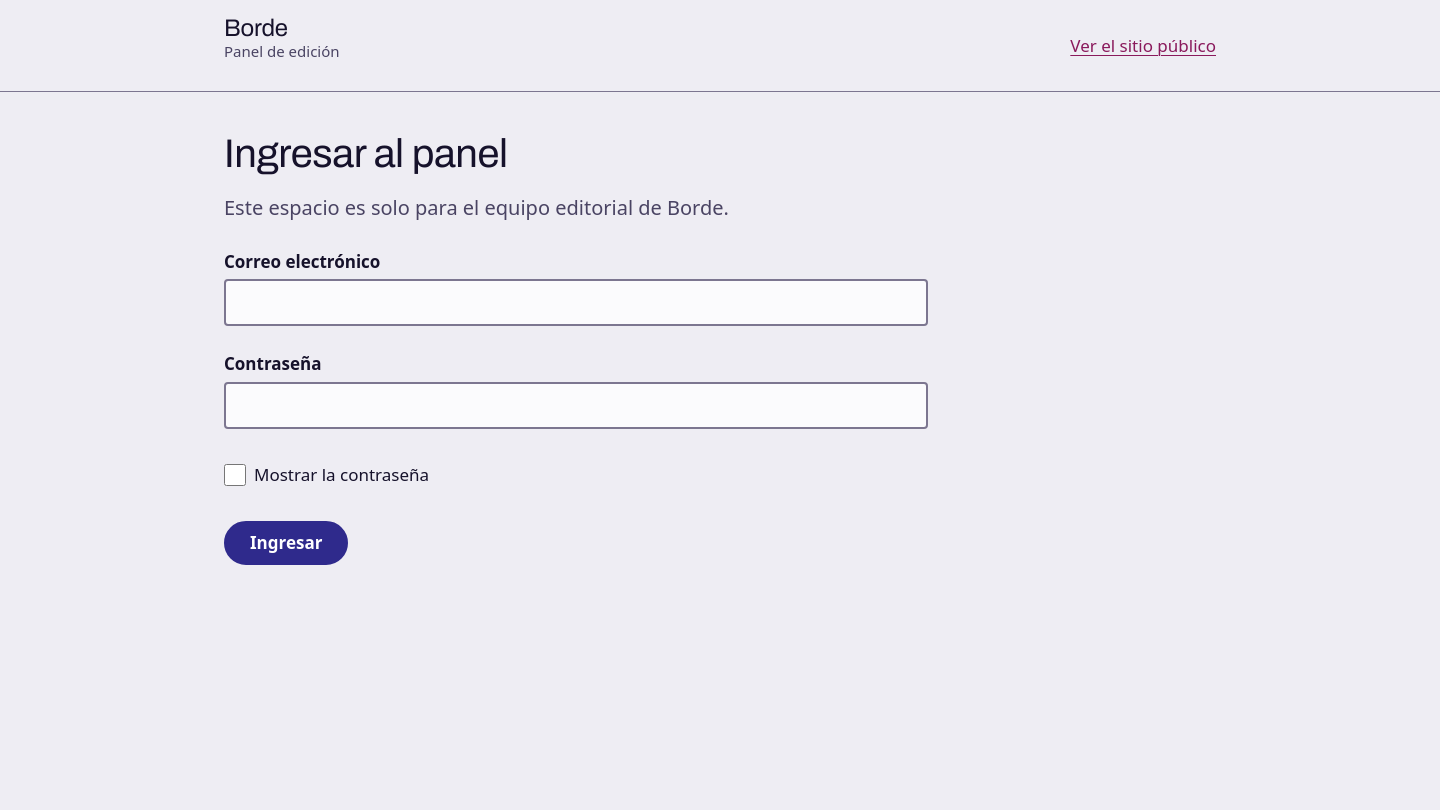
Acceso al panel › login correcto vuelve a la página que se había pedido
Expected: the heading "Ingresar al panel" is shown, top-left (224, 132), bottom-right (508, 175)
Type "editora@test.local" into the field labelled "Correo electrónico".
click(576, 303); type("editora@test.local")  # box top-left (224, 279), bottom-right (928, 326)
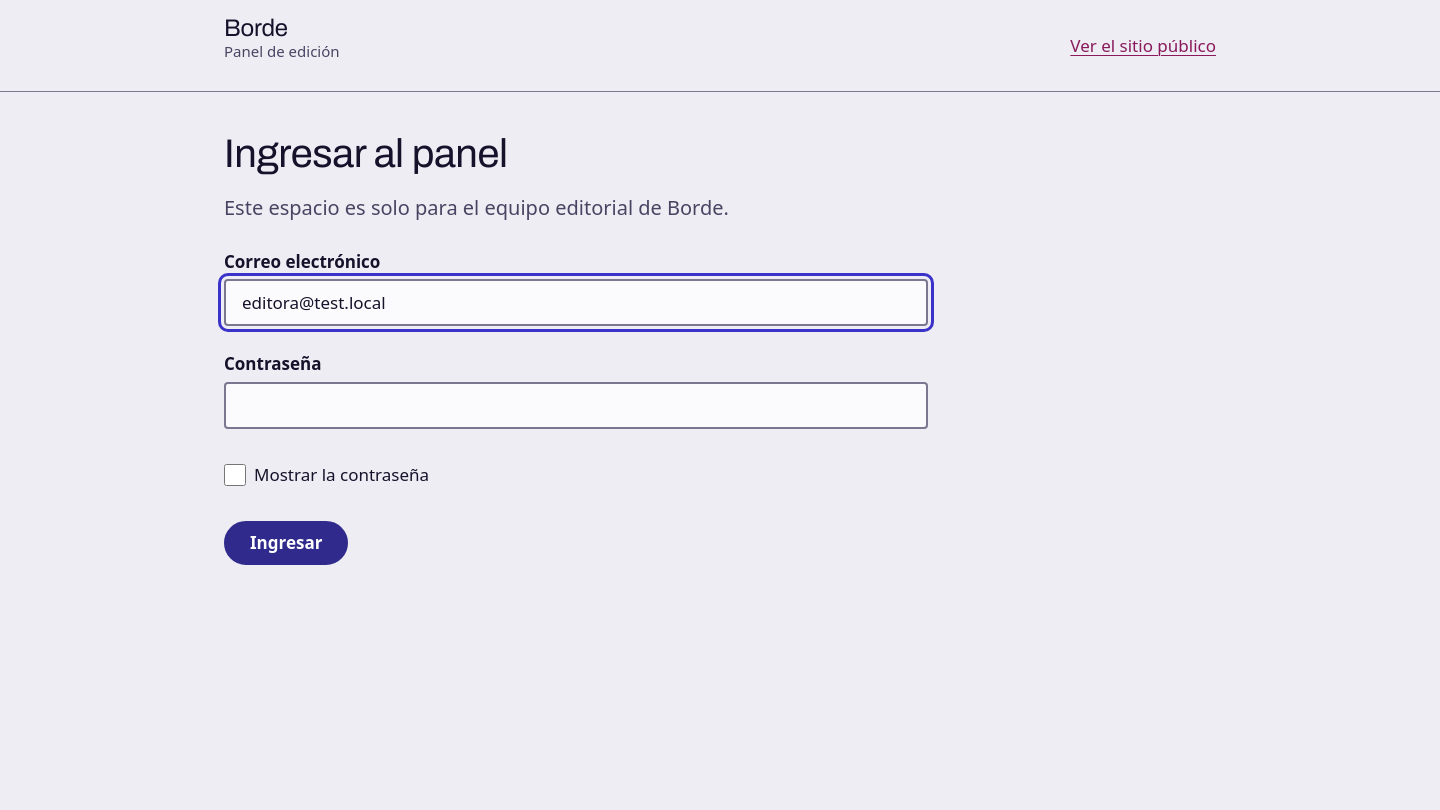
Type "buena" into the password field labelled "Contraseña".
click(576, 405); type("buena")  # box top-left (224, 382), bottom-right (928, 429)
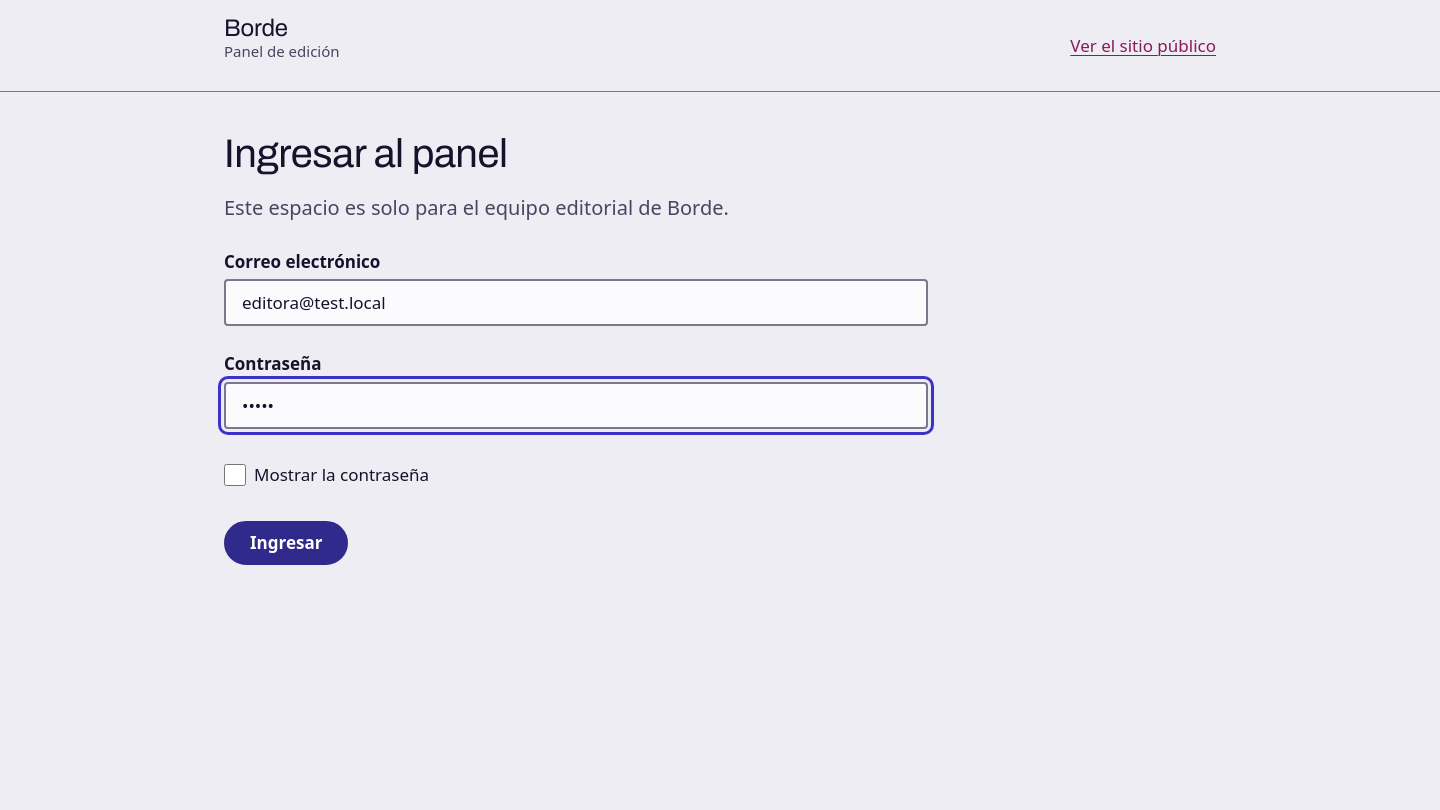
Click the button "Ingresar".
click(286, 543)  # box top-left (224, 521), bottom-right (348, 565)
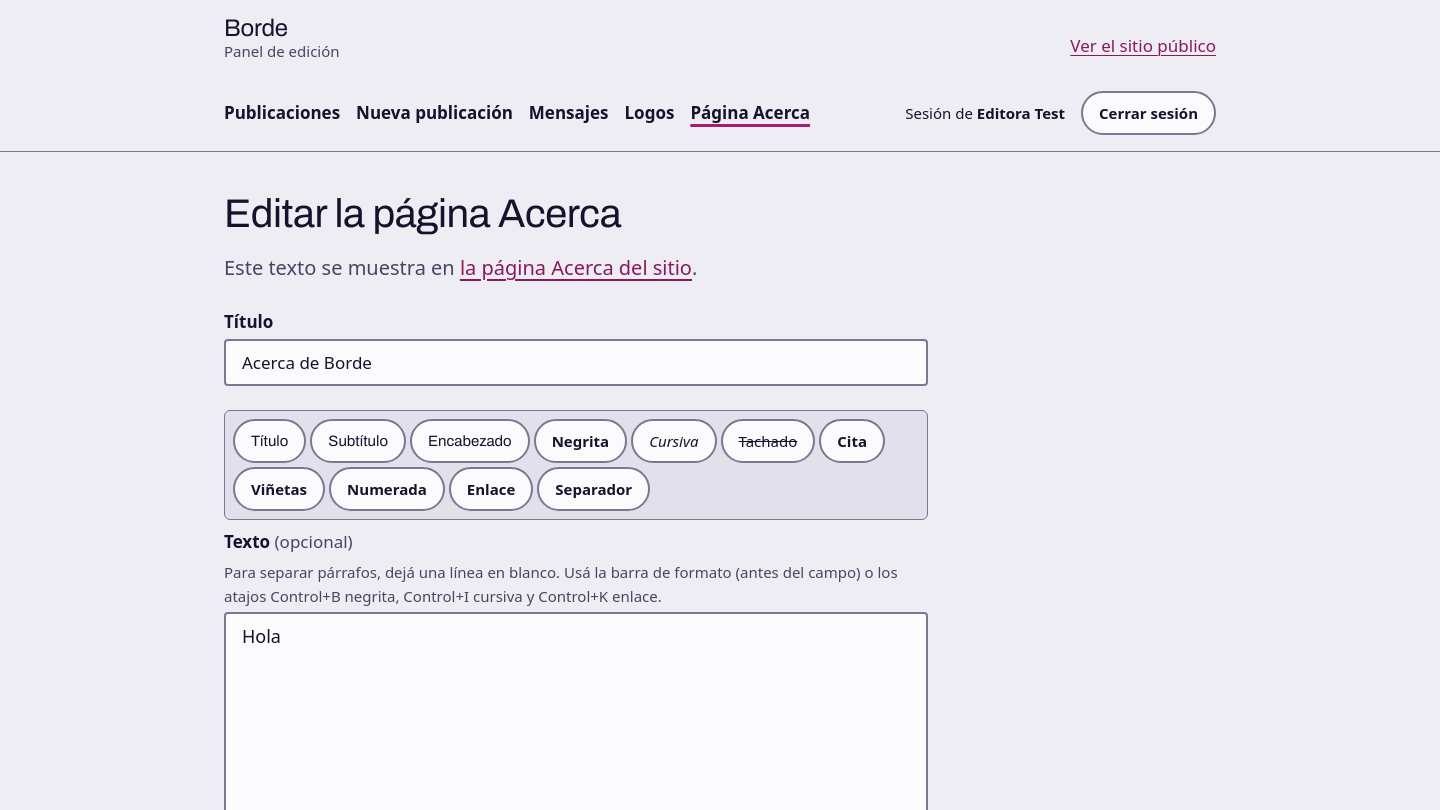
Result: the heading "Editar la página Acerca" is shown at top-left (224, 192), bottom-right (621, 235)
Result: the navigation bar named "Panel" is shown at top-left (224, 101), bottom-right (810, 124)
